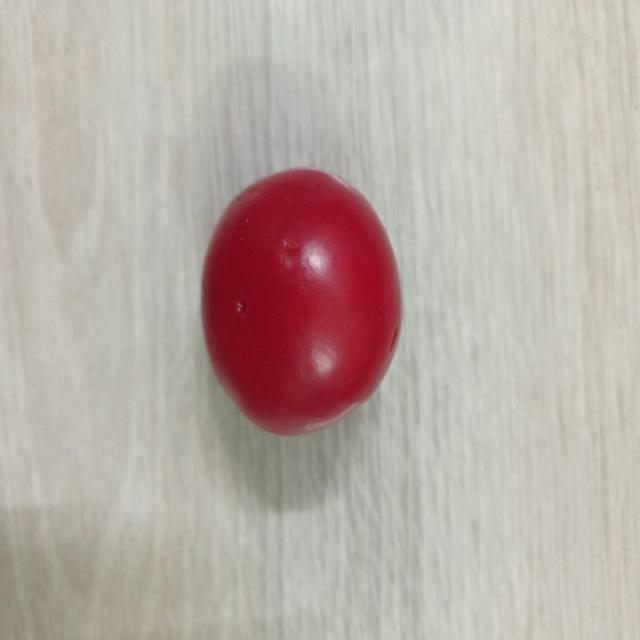Ripe: (196, 164, 409, 443)
